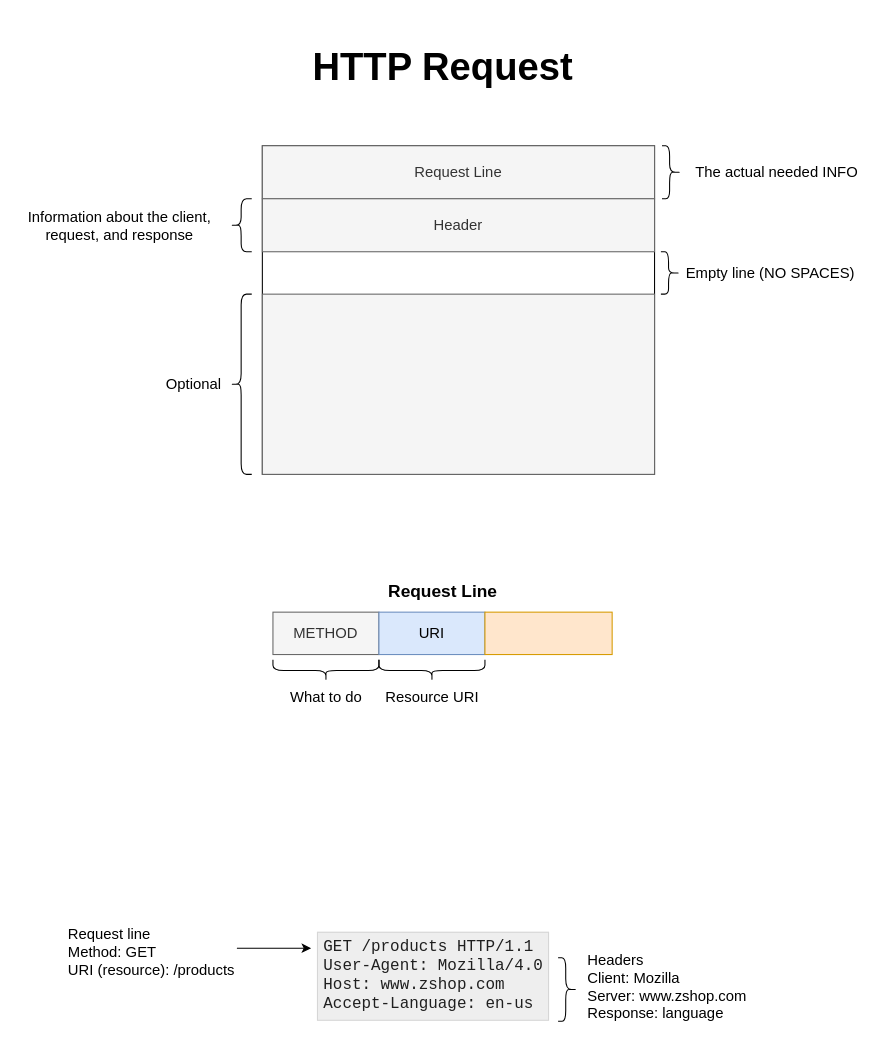
The diagram is 884 pixels wide and 1056 high, and some of its shapes have lost their labels. Here are the shapes that lost their labels. From the top down, the centre of each, then its label:
the point at 458,383: Body
the point at 548,633: Protocol version
